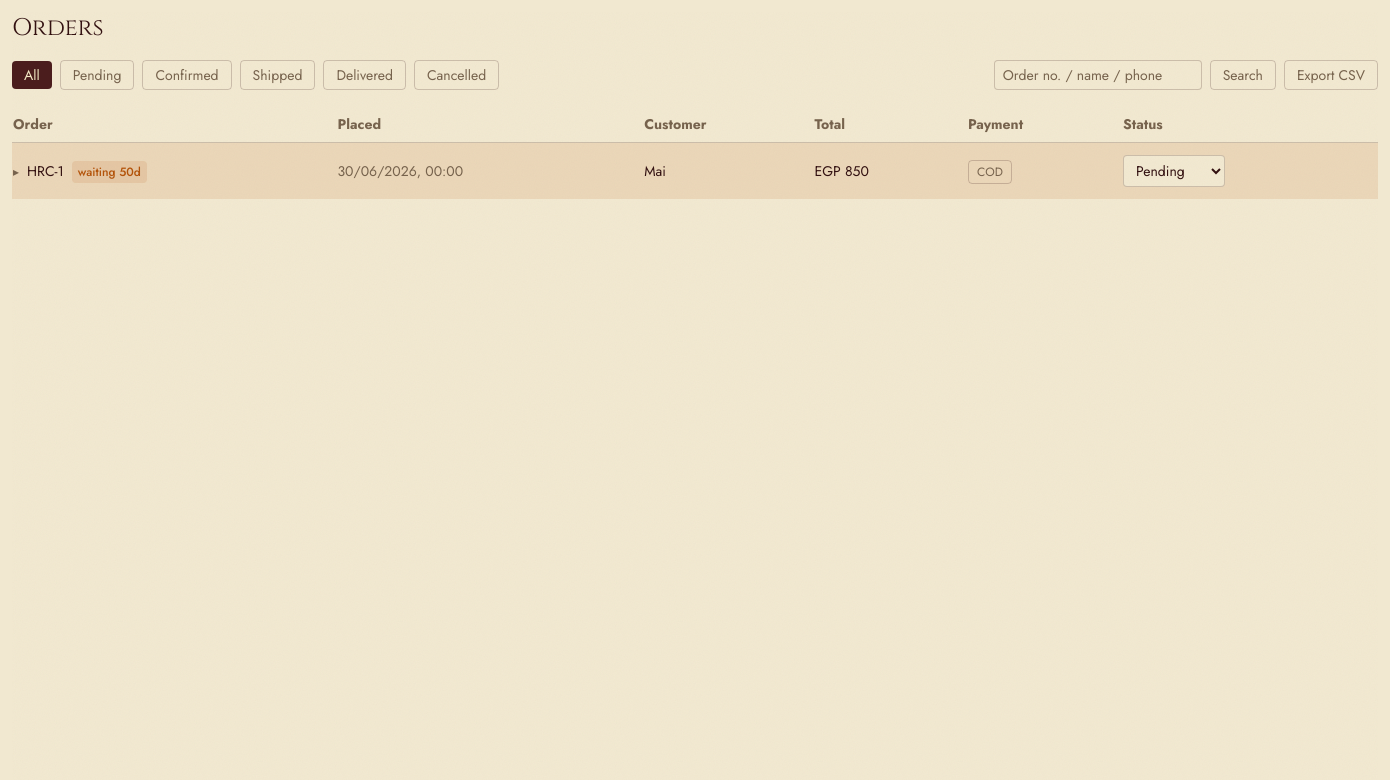
it: AdminOrders › expands a row into order details
This screenshot has width=1390, height=780.
Expected: the text "HRC-1" is shown, top-left (27, 161), bottom-right (64, 181)
Expected: the text "1 St" is not shown
Click the text "HRC-1" at point(45, 171), box top-left (12, 142), bottom-right (336, 199)
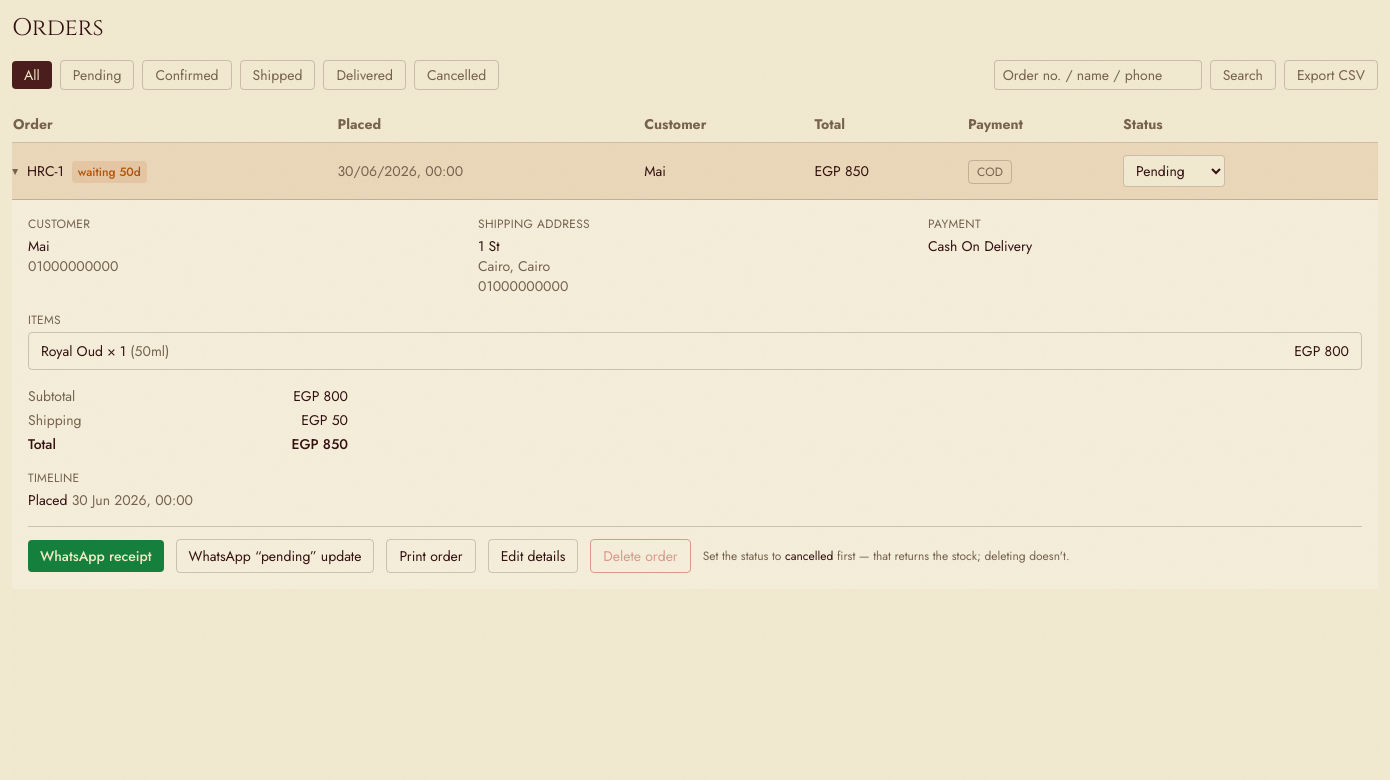
Expected: the text "1 St" is shown, top-left (478, 236), bottom-right (500, 256)
Expected: the text "Royal Oud × 1 (50ml)" is shown, top-left (41, 341), bottom-right (169, 361)
Expected: the text "Cash on delivery" is shown, top-left (928, 236), bottom-right (1032, 256)
